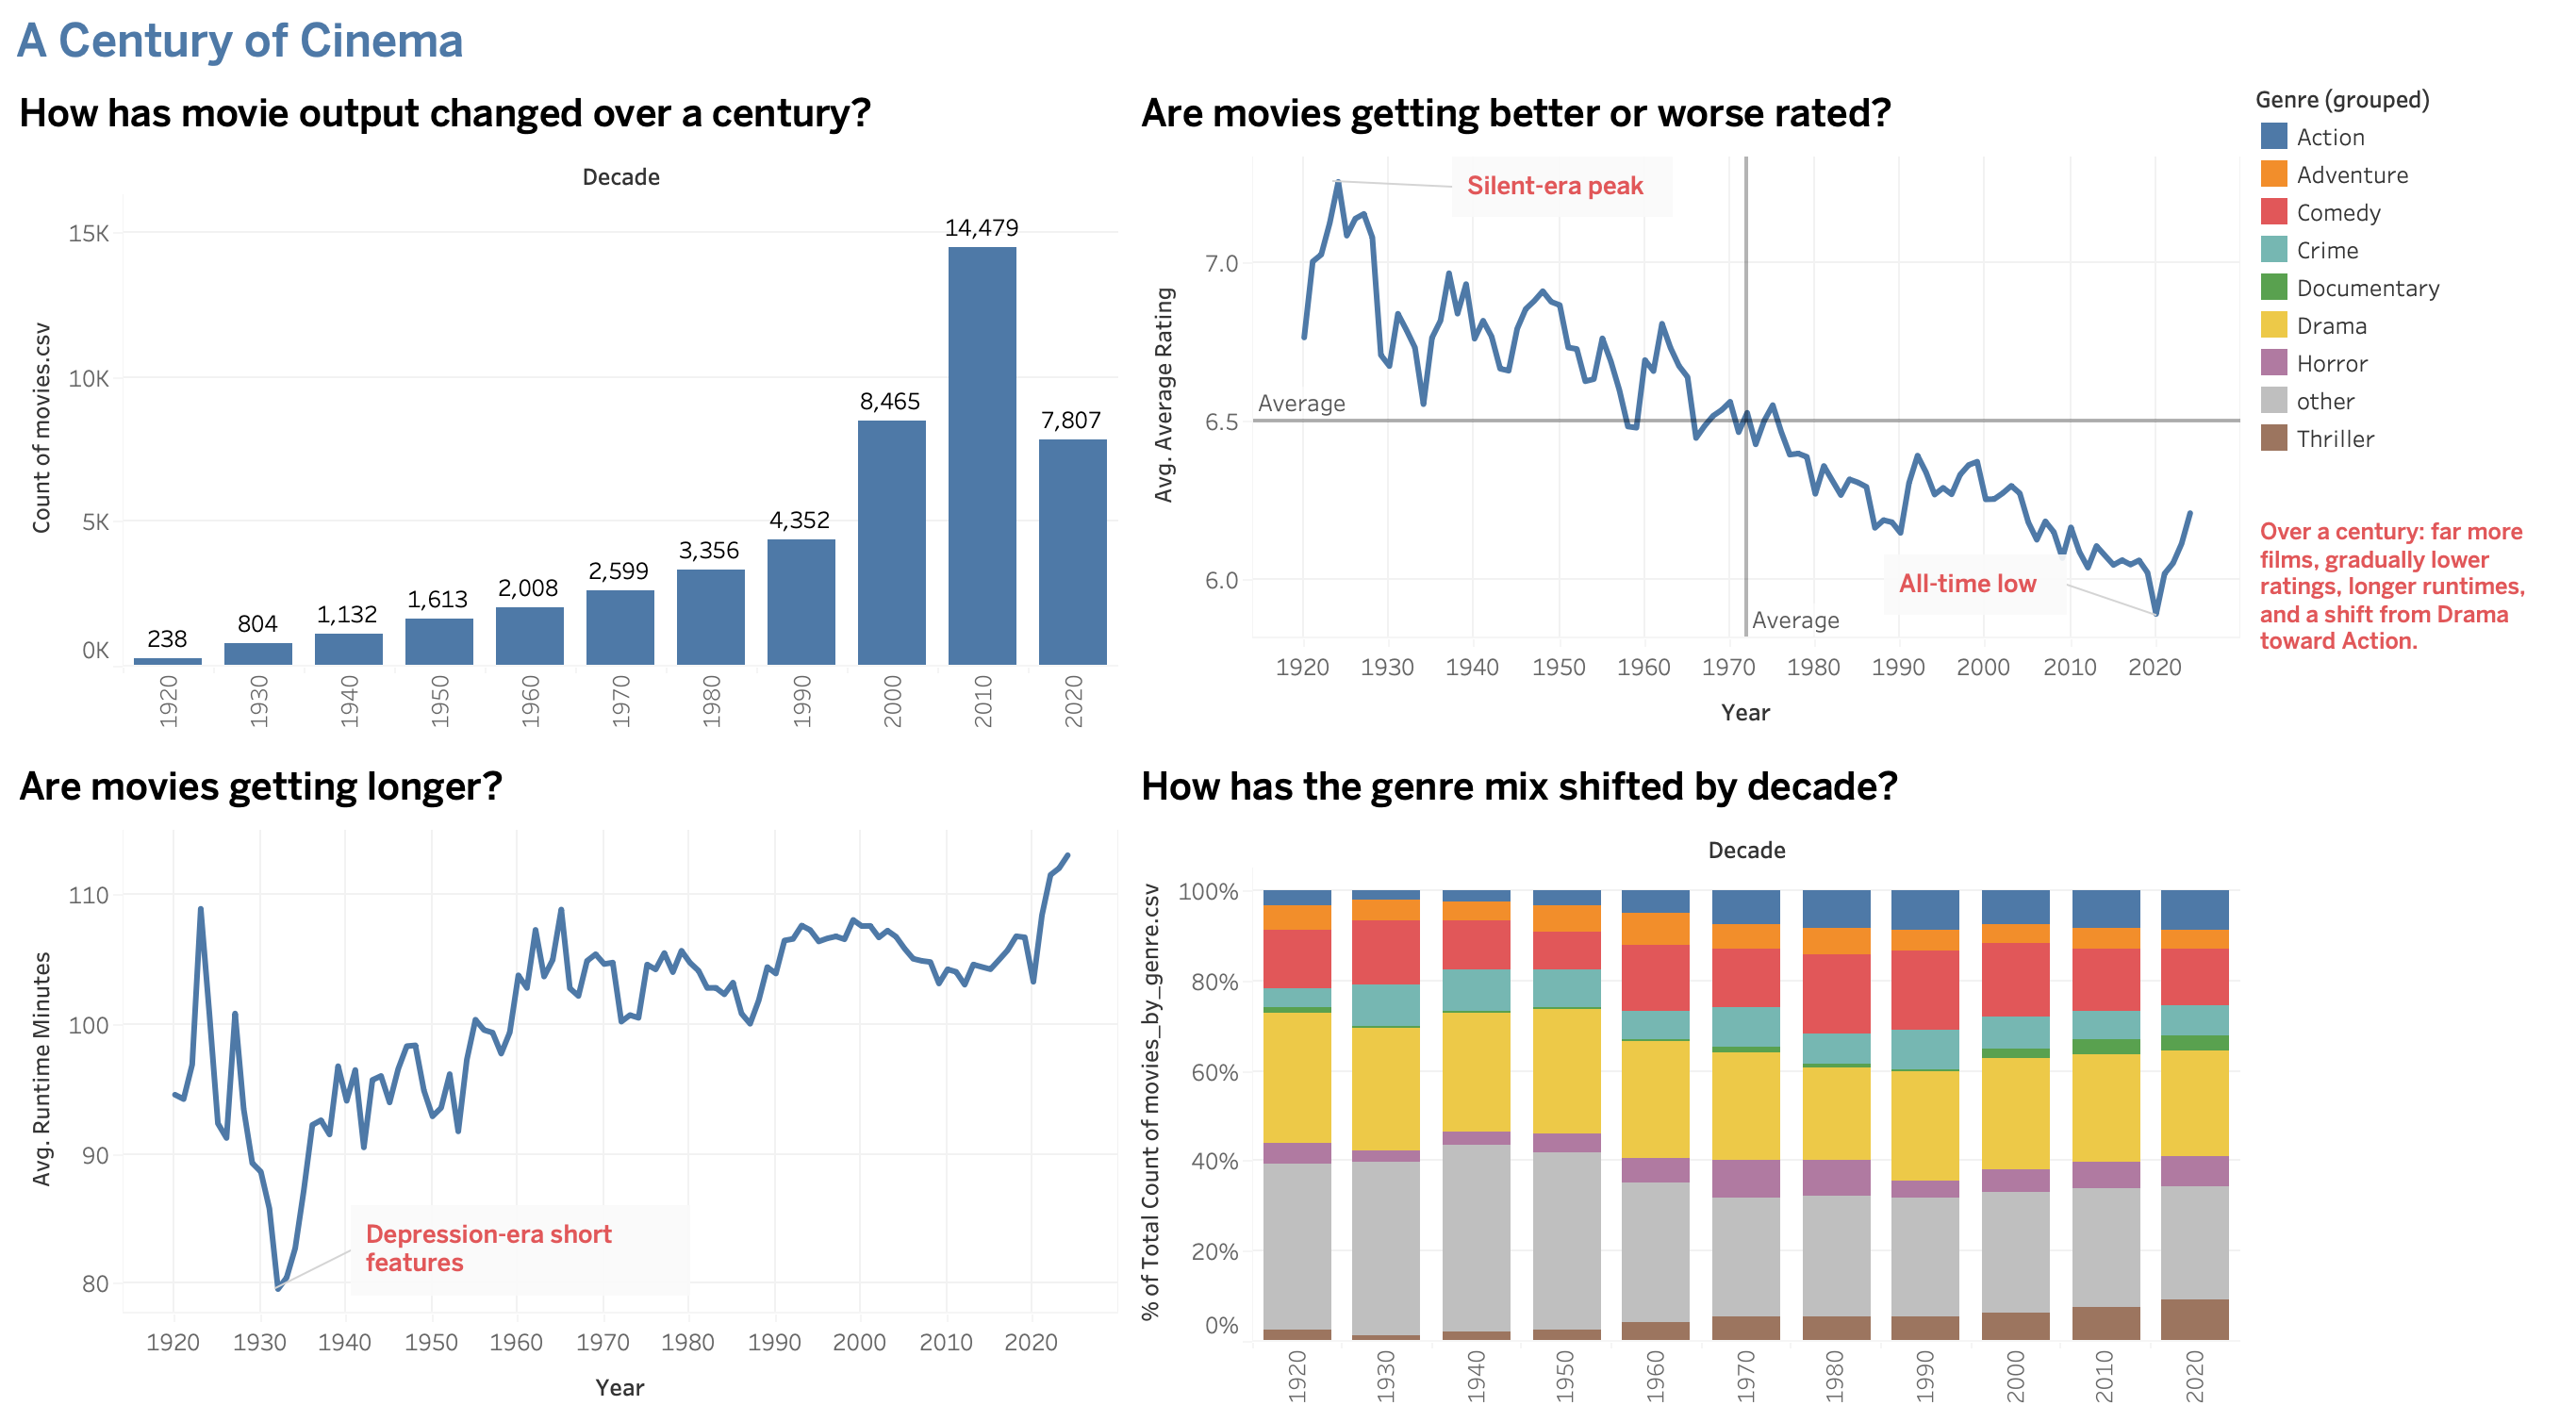

The page's visual inventory and layout, read from the dashboard file:
{"tool":"tableau","page":{"name":"A Century of Cinema","canvas":[1366,768],"ordinal":0},"visuals":[{"type":"title","box":[8,8,1350,44]},{"type":"worksheet","title":"Films per Decade","mark":"Automatic","rows":["movies.csv_D0CE42B55F3F46939140B49C6A9FC8B3"],"cols":["decade"],"box":[8,52,595,354]},{"type":"worksheet","title":"Rating over Time","mark":"Line","rows":["averageRating"],"cols":["year"],"box":[603,52,595,354]},{"type":"legend","title":"Genre Mix","param":"[federated.1fkq490048m1v9109c2dg19p78gd].[Genre (grouped)]","box":[1198,52,160,219]},{"type":"text","box":[1198,271,160,133]},{"type":"worksheet","title":"Runtime over Time","mark":"Line","rows":["runtimeMinutes"],"cols":["year"],"box":[8,406,595,354]},{"type":"worksheet","title":"Genre Mix","mark":"Automatic","cols":["decade"],"box":[603,406,595,354]}]}

Visuals, with their boxes in screenshot pixels (x1, y1, x2, y2), scaled from the page's 1366x768 canvas onto the 2576x1422 screenshot:
title: crop(15, 15, 2561, 96)
"Films per Decade" worksheet: crop(15, 96, 1137, 752)
"Rating over Time" worksheet (Line marks): crop(1137, 96, 2259, 752)
"Genre Mix" legend: crop(2259, 96, 2561, 502)
text: crop(2259, 502, 2561, 748)
"Runtime over Time" worksheet (Line marks): crop(15, 752, 1137, 1407)
"Genre Mix" worksheet: crop(1137, 752, 2259, 1407)
